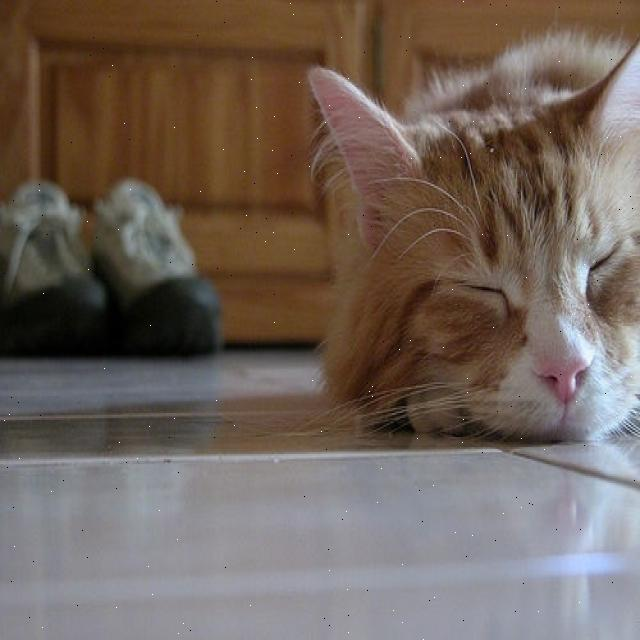cat: (308, 32, 639, 439)
